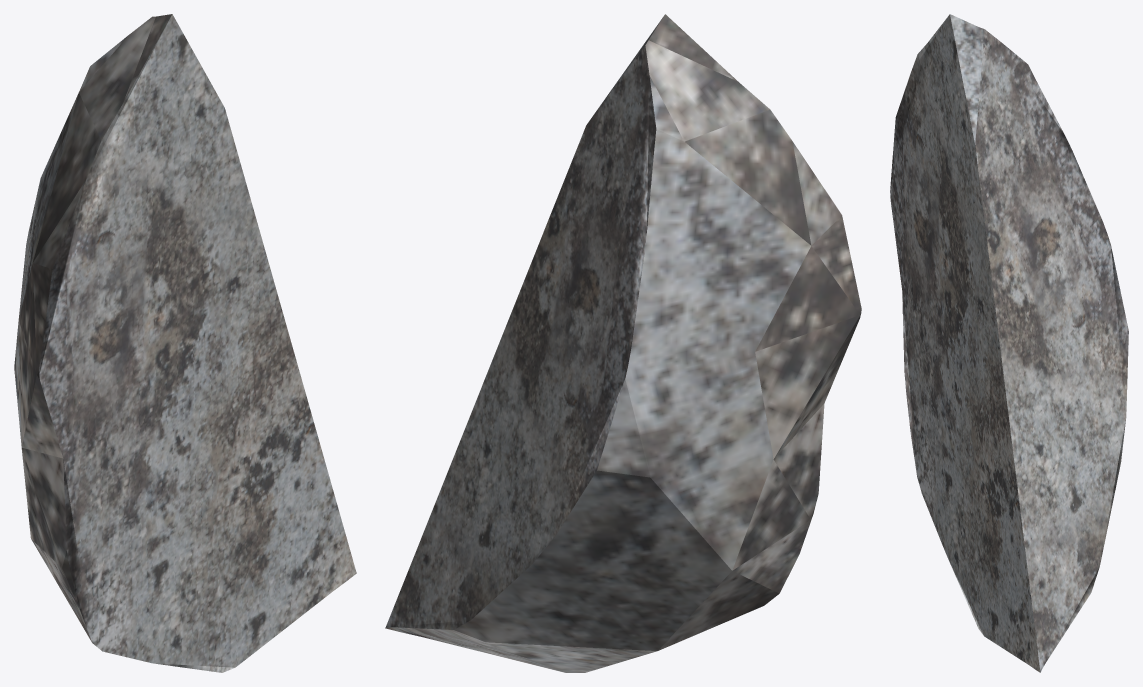
The model's file is Asteroid_Medium_001_02_005.fbx.
3 renders of one model, left to right at view 1: azimuth 30°, elevation 25°; view 2: azimuth 150°, elevation 25°; view 3: azimuth 270°, elevation 25°, orthographic. The views are drawn at different scales.
Parts seen in each view (by area): view 1: Asteroid_Medium_001_02_005; view 2: Asteroid_Medium_001_02_005; view 3: Asteroid_Medium_001_02_005.
Part boxes in pixels (x1,y1,x2,y2): Asteroid_Medium_001_02_005: (14, 14, 356, 672); Asteroid_Medium_001_02_005: (385, 14, 861, 672); Asteroid_Medium_001_02_005: (890, 14, 1128, 672).
Size of the model in its own units: 11.95 by 19.36 by 7.13.
